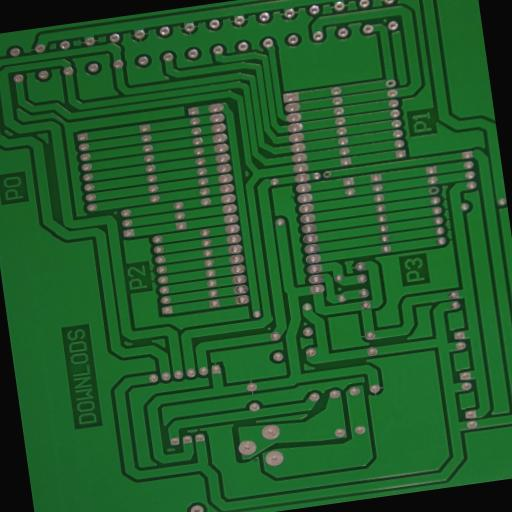missing_hole: (426, 185, 440, 196), (384, 78, 396, 88), (321, 170, 332, 179)
